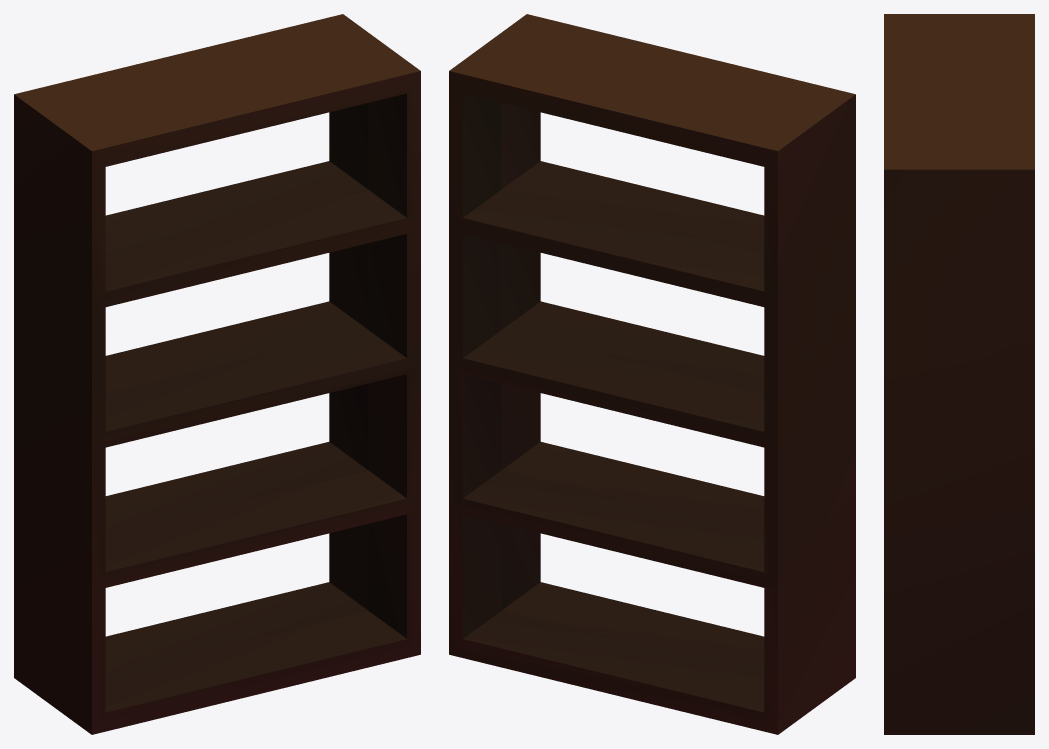
File: tall_bookcase.FBX
The picture shows the model from 3 angles, left to right: view 1: azimuth 30°, elevation 25°; view 2: azimuth 150°, elevation 25°; view 3: azimuth 270°, elevation 25°; orthographic projection. The views are drawn at different scales.
Parts seen in each view (by area): view 1: tall bookcase; view 2: tall bookcase; view 3: tall bookcase.
Boxes of the visible parts, box(x1,y1,x2,y2) form: tall bookcase: box(14, 14, 420, 734); tall bookcase: box(449, 14, 855, 734); tall bookcase: box(884, 14, 1034, 734).
Size of the model in its own units: 0.9701 by 1.64 by 0.3975.
